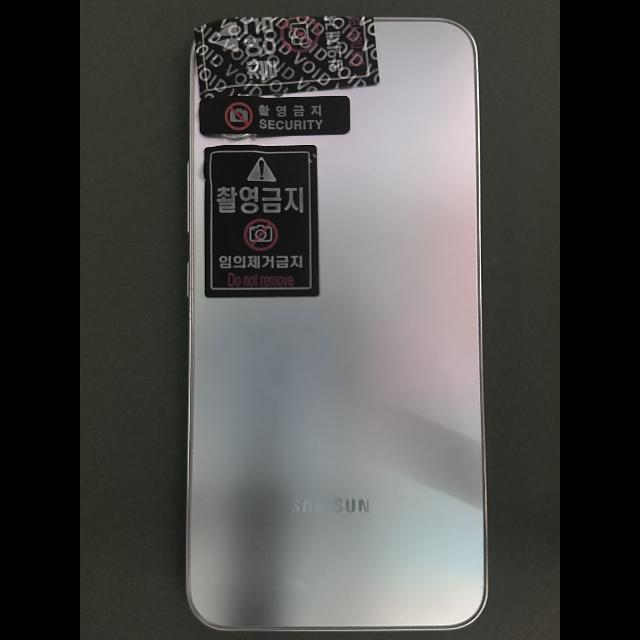lens: (222, 134, 250, 139)
phone: (185, 17, 489, 632)
sticker: (202, 144, 319, 298), (194, 16, 381, 99), (199, 95, 351, 136)
